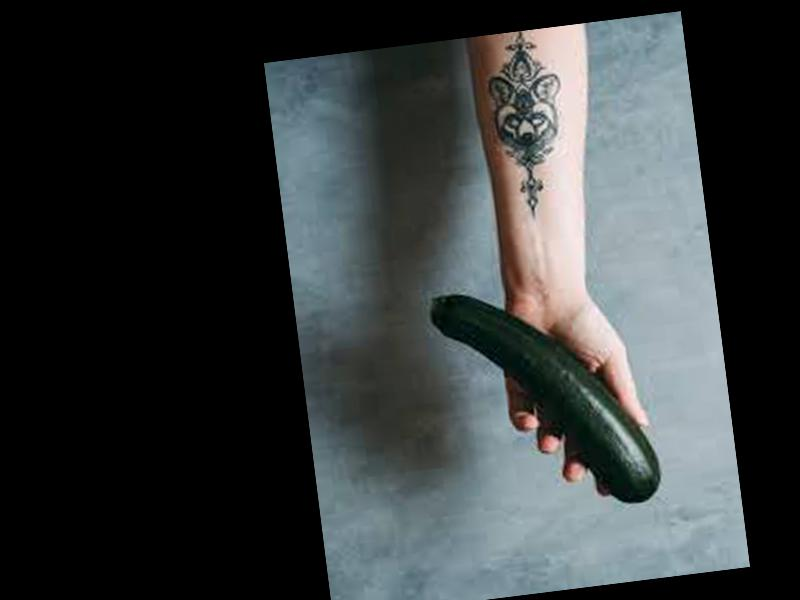Cucumber: (429, 273, 662, 525)
